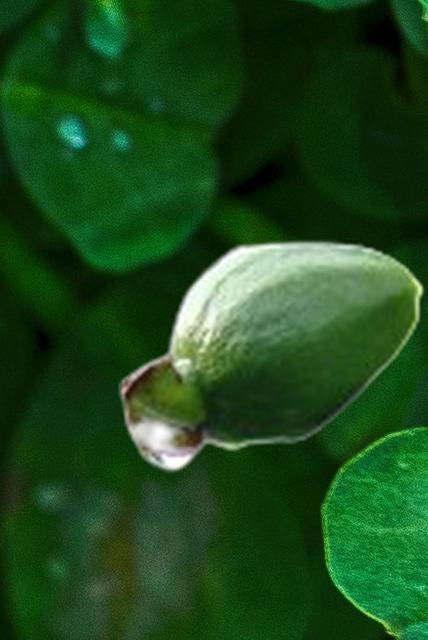guava: (118, 238, 424, 472)
